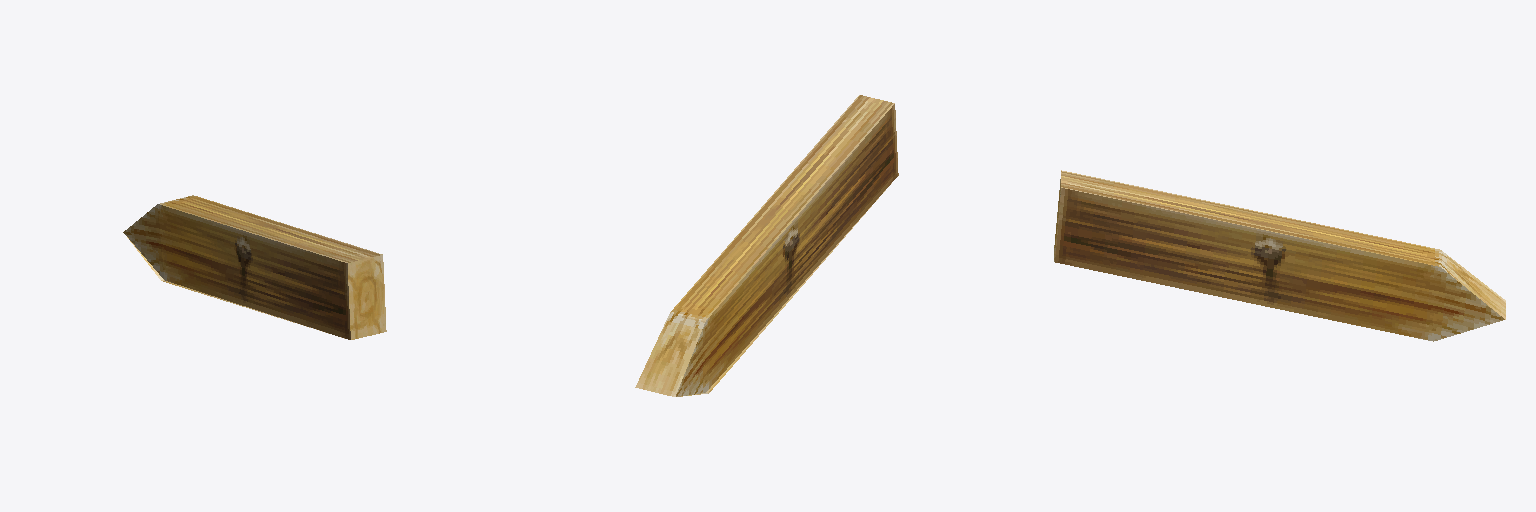
3 views of the same model, side by side, from view 1: azimuth 30°, elevation 25°; view 2: azimuth 150°, elevation 25°; view 3: azimuth 270°, elevation 25° (orthographic).
Parts seen in each view (by area): view 1: object 1; view 2: object 1; view 3: object 1.
Boxes of the visible parts, x1,y1,x2,y2 form: object 1: [123, 195, 386, 339]; object 1: [635, 95, 898, 396]; object 1: [1054, 170, 1505, 341].
Bounding box in the file's own units: 0.2331 × 0.858 × 2.28.
1 materials, 1 textured.